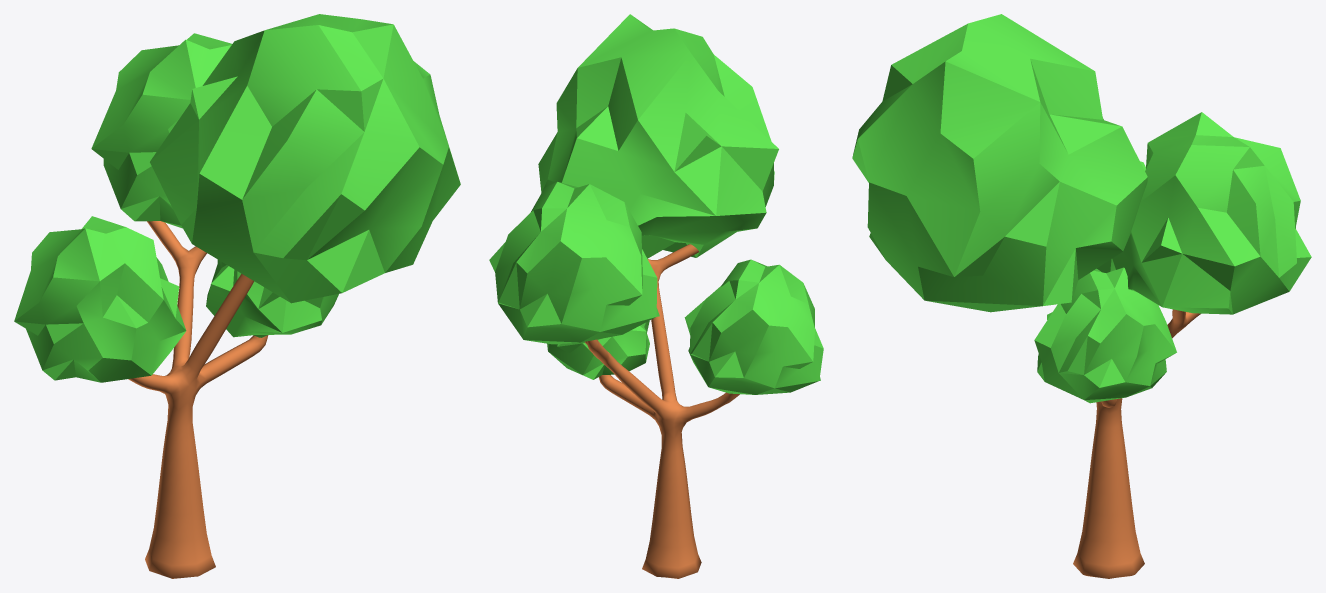
File: No apple tree.fbx
3 renders of one model, left to right at view 1: azimuth 30°, elevation 25°; view 2: azimuth 150°, elevation 25°; view 3: azimuth 270°, elevation 25°, orthographic. The views are drawn at different scales.
Parts seen in each view (by area): view 1: Leaves, Leaves3, Tree, Leaves2, Leaves4; view 2: Leaves, Leaves2, Leaves3, Tree, Leaves4; view 3: Leaves, Leaves2, Leaves4, Tree.
Boxes of the visible parts, <box> form: Leaves: <box>150,14,460,303</box>; Leaves3: <box>14,216,186,382</box>; Tree: <box>128,221,268,578</box>; Leaves2: <box>91,33,231,228</box>; Leaves4: <box>206,259,338,337</box>; Leaves: <box>538,14,778,258</box>; Leaves2: <box>489,182,659,344</box>; Leaves3: <box>684,259,823,394</box>; Tree: <box>585,244,739,578</box>; Leaves4: <box>547,320,649,379</box>; Leaves: <box>852,14,1147,312</box>; Leaves2: <box>1112,112,1311,314</box>; Leaves4: <box>1034,267,1176,403</box>; Tree: <box>1073,309,1200,578</box>.
Bounding box in the file's own units: 431 × 641 × 462.
